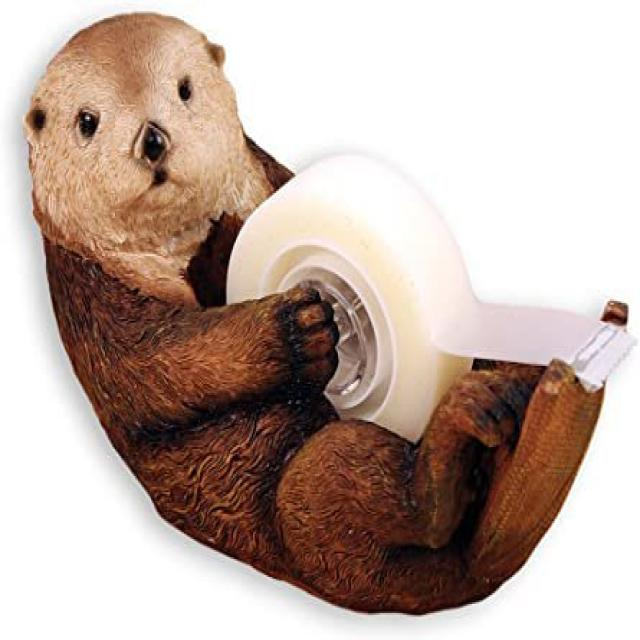Otter: (29, 7, 606, 601)
